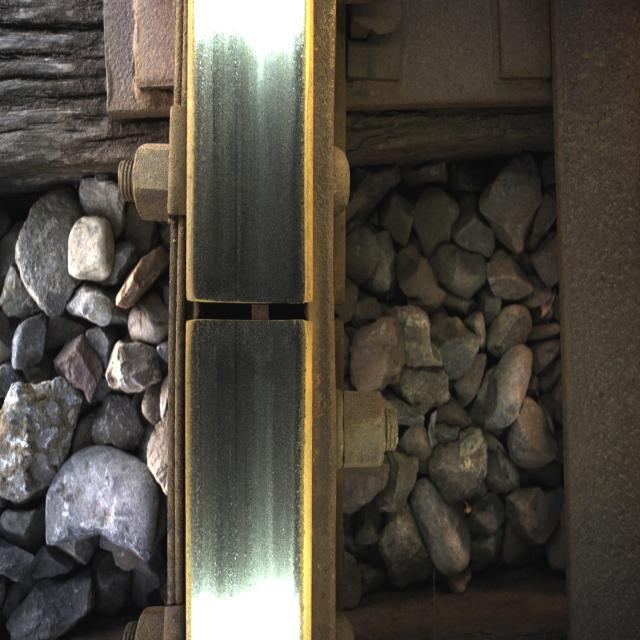spalling: (158, 252, 338, 358)
